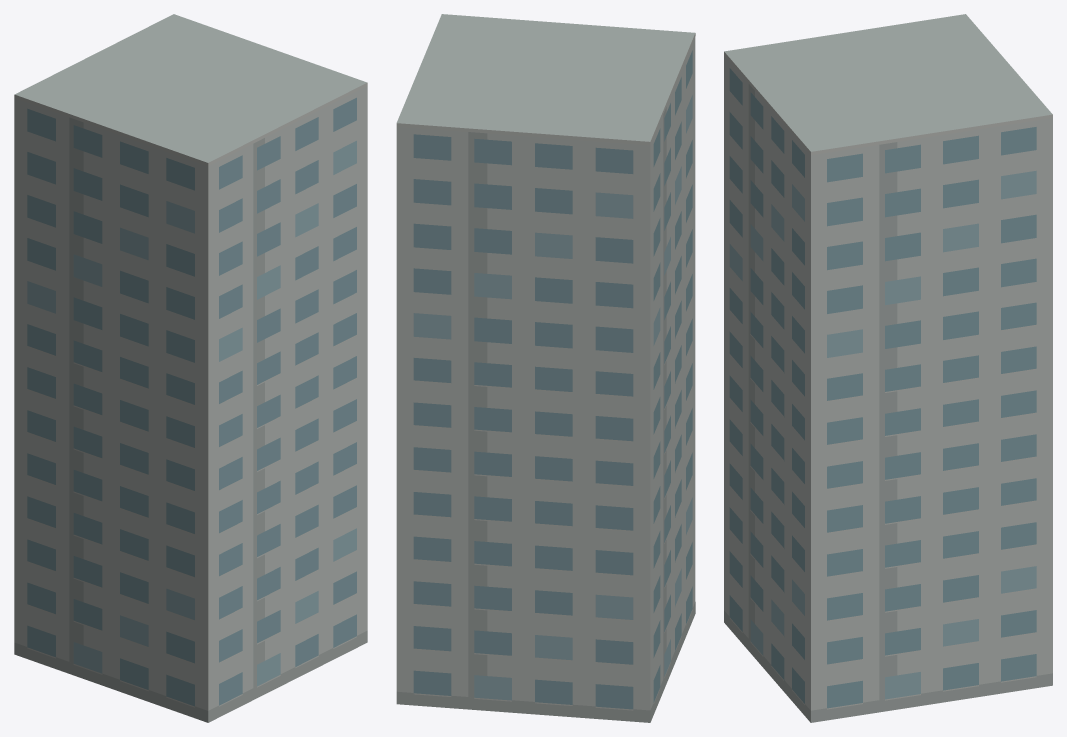
The model's file is residential-c8b35c38-cbd0-446e-9208-ff4a8726d3ba.glb.
3 renders of one model, left to right at view 1: azimuth 30°, elevation 25°; view 2: azimuth 150°, elevation 25°; view 3: azimuth 270°, elevation 25°, orthographic. The views are drawn at different scales.
Visible parts, largest first — view 1: residential-c8b35c38-cbd0-446e-9208-ff4a8726d3ba.tmp; view 2: residential-c8b35c38-cbd0-446e-9208-ff4a8726d3ba.tmp; view 3: residential-c8b35c38-cbd0-446e-9208-ff4a8726d3ba.tmp.
Part boxes in pixels (left/top/right/bottom): residential-c8b35c38-cbd0-446e-9208-ff4a8726d3ba.tmp: left=14, top=14, right=367, bottom=722; residential-c8b35c38-cbd0-446e-9208-ff4a8726d3ba.tmp: left=396, top=14, right=695, bottom=722; residential-c8b35c38-cbd0-446e-9208-ff4a8726d3ba.tmp: left=724, top=14, right=1052, bottom=722.
Bounding box in the file's own units: 20.72 × 40 × 20.88.
